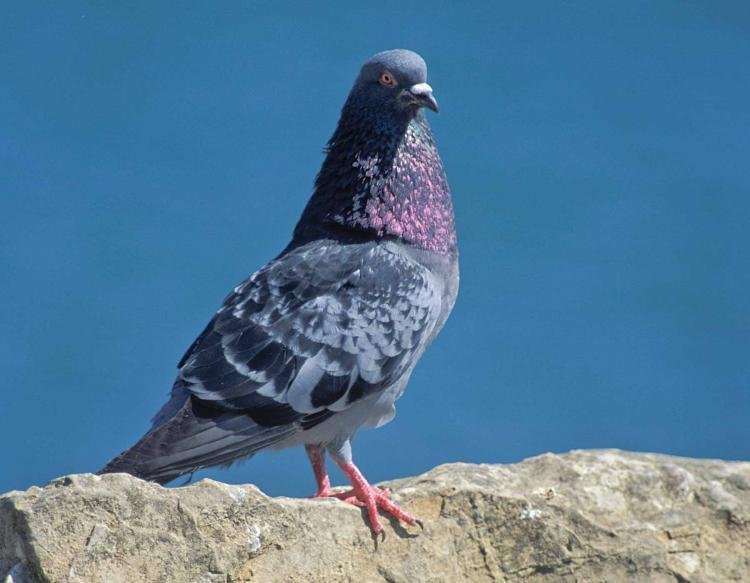Flying Rat: (100, 44, 468, 547)
